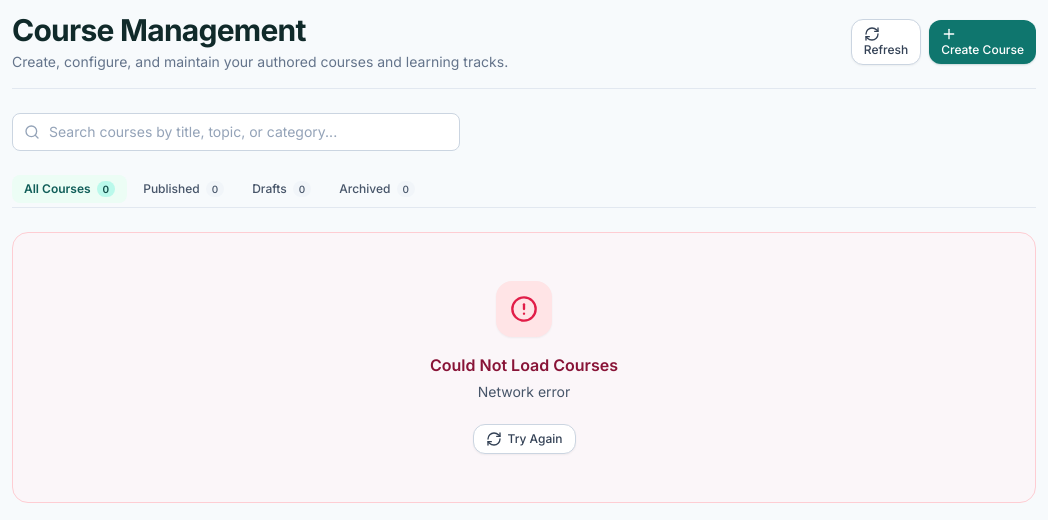
Test: TrainerCoursesPage › renders ErrorState with retry button when course fetch fails
This screenshot has width=1048, height=520.
Expected: the heading "Could Not Load Courses" is shown, 430,353 -> 618,377
Expected: the text "Network error" is shown, 478,381 -> 570,404
Click the button "Try Again" at coordinates (524, 439), box 472,424 -> 576,454
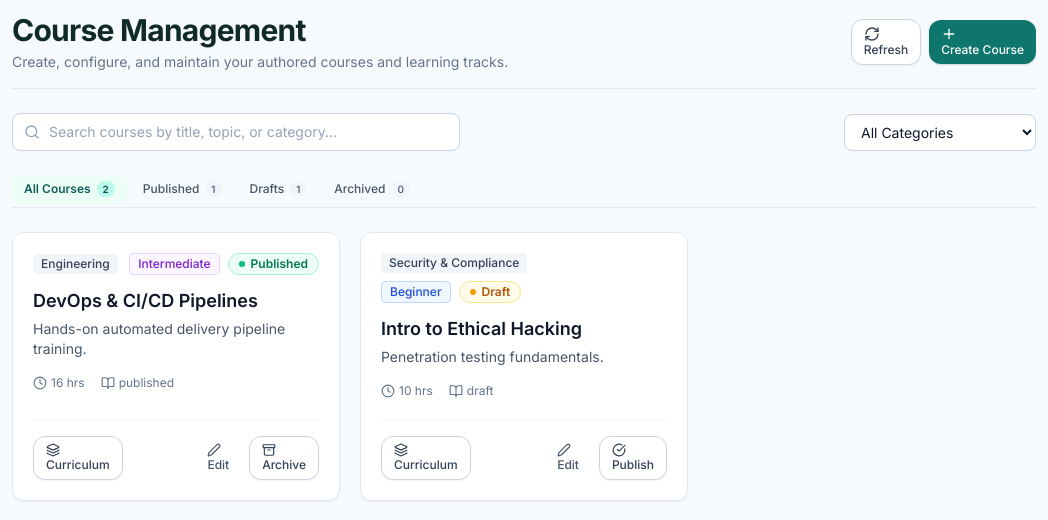
Expected: the heading "DevOps & CI/CD Pipelines" is shown, 33,290 -> 258,311
